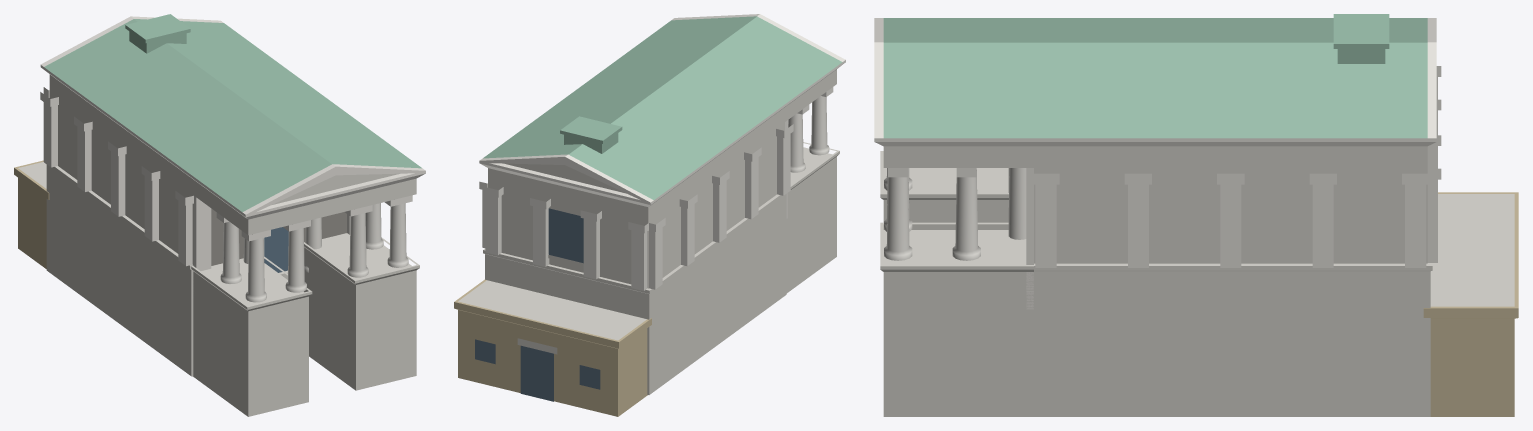
The model's file is cle-wade-memorial-chapel.glb.
The picture shows the model from 3 angles, left to right: view 1: azimuth 30°, elevation 25°; view 2: azimuth 150°, elevation 25°; view 3: azimuth 270°, elevation 25°; orthographic projection. The views are drawn at different scales.
Parts seen in each view (by area): view 1: Wade Memorial Chapel; view 2: Wade Memorial Chapel; view 3: Wade Memorial Chapel.
Boxes of the visible parts, box(x1,y1,x2,y2) form: Wade Memorial Chapel: box(14, 14, 425, 416); Wade Memorial Chapel: box(454, 14, 845, 416); Wade Memorial Chapel: box(874, 14, 1518, 416).
Bounding box in the file's own units: 11.14 × 13.85 × 24.4.
